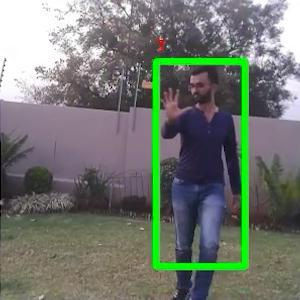follow_hand: (157, 81, 192, 125)
